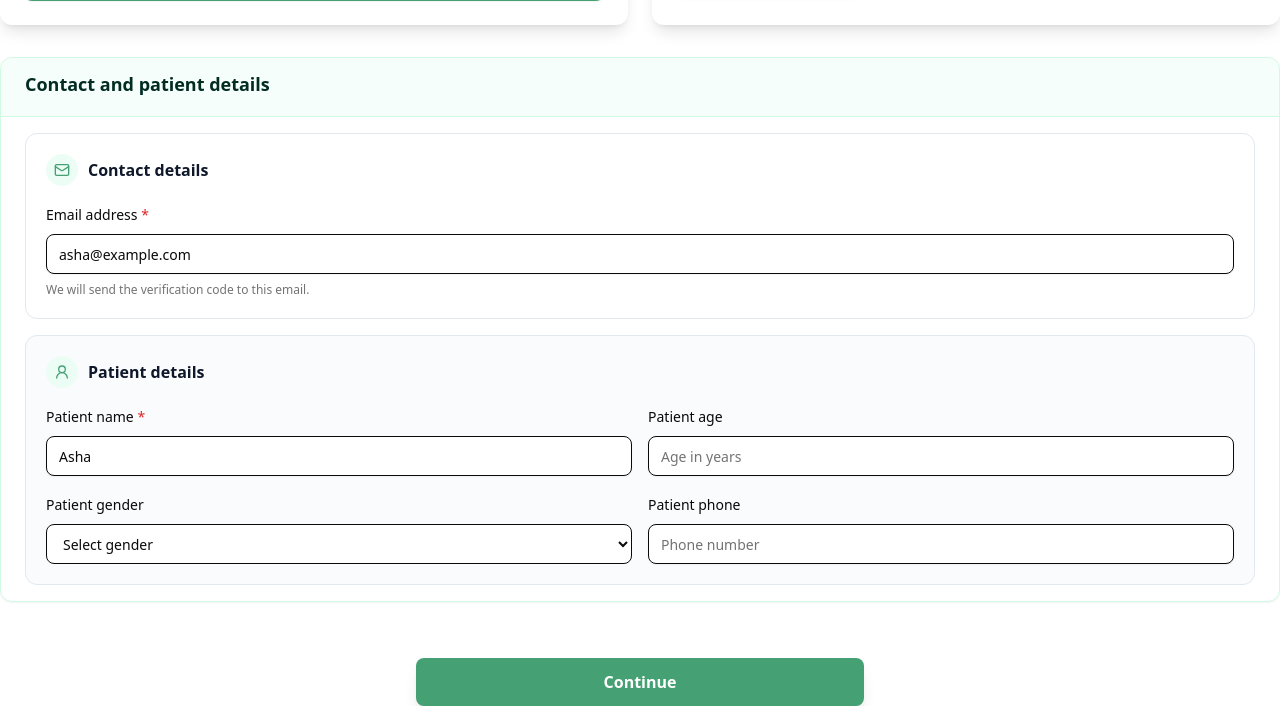
Booking form › shows the slot conflict when draft creation fails
(page scrolled)
Click the button "Continue" at (640, 682), box [416,658,864,705]
(page scrolled)
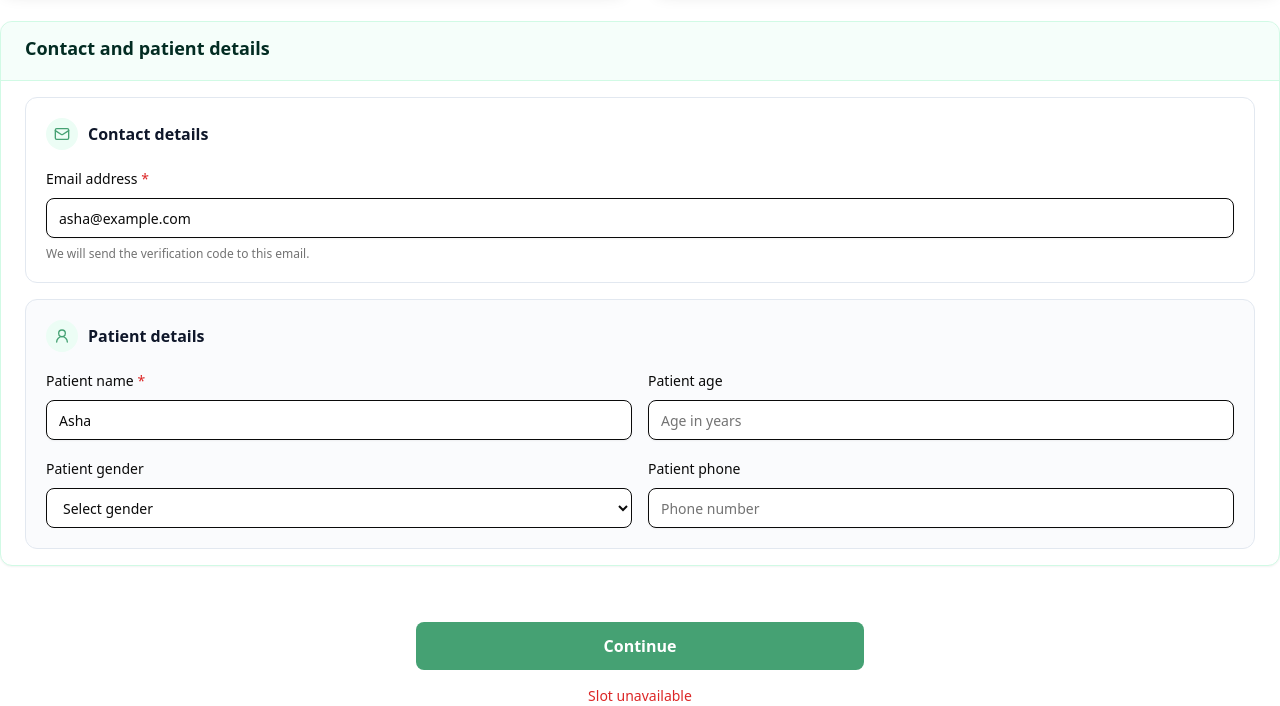
Now the text "Slot unavailable" is shown, box [588,686,692,705]
